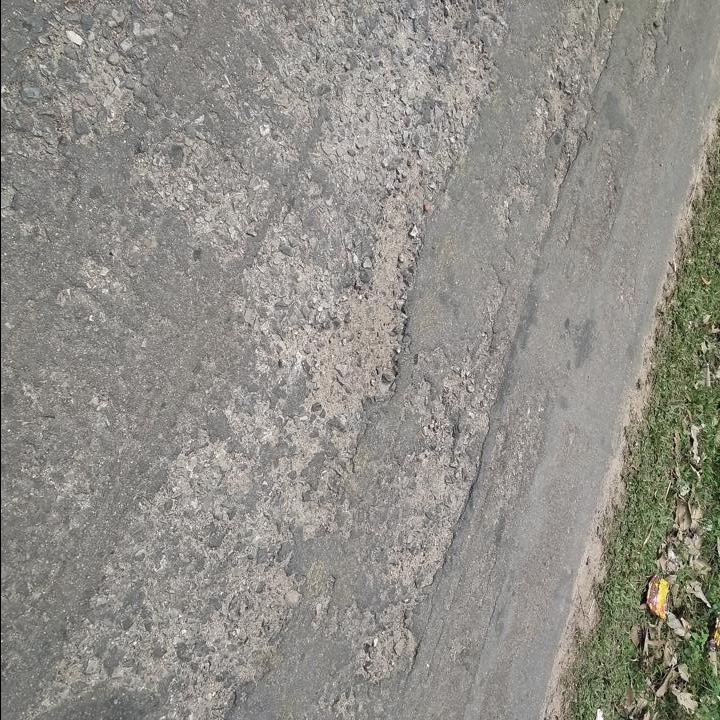pothole: (318, 183, 426, 424), (395, 396, 490, 598), (354, 618, 419, 684)
